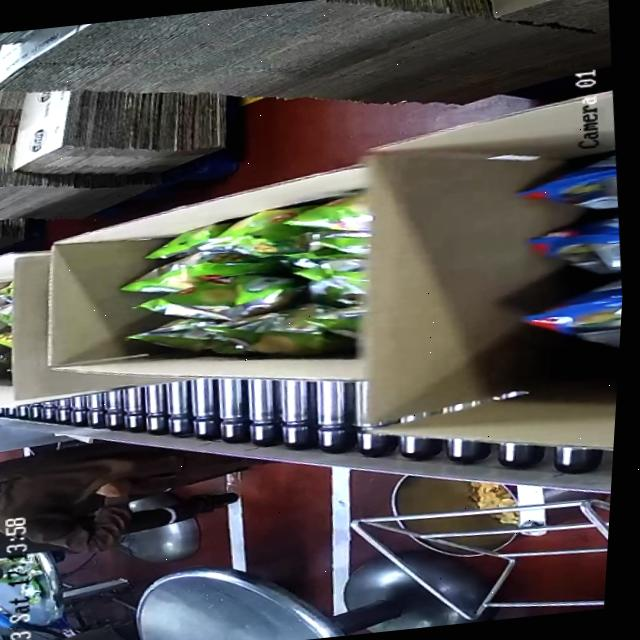PAPRIKA: (471, 140, 632, 366)
